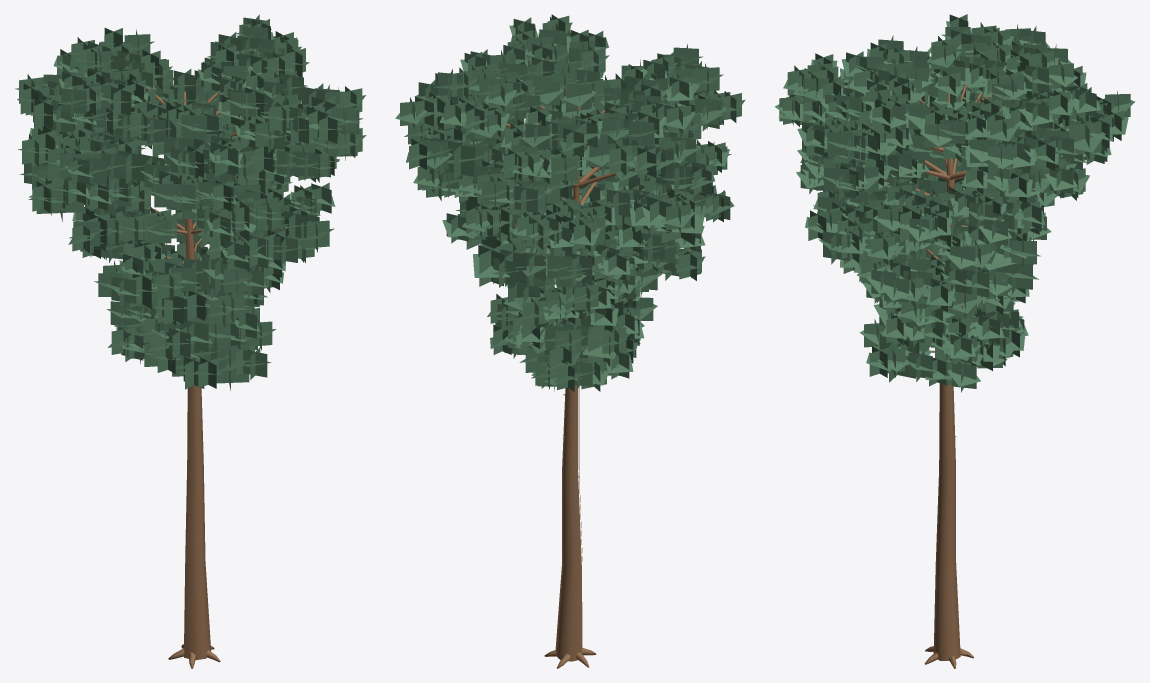
File: pin_3_jeu.glb
The picture shows the model from 3 angles, left to right: view 1: azimuth 30°, elevation 25°; view 2: azimuth 150°, elevation 25°; view 3: azimuth 270°, elevation 25°; orthographic projection.
Visible parts, largest first — view 1: Pin_T3_Leger; view 2: Pin_T3_Leger; view 3: Pin_T3_Leger.
Part boxes in pixels (bbox=[...]): Pin_T3_Leger: bbox=[15, 14, 366, 668]; Pin_T3_Leger: bbox=[395, 14, 745, 668]; Pin_T3_Leger: bbox=[775, 14, 1134, 668].
Size of the model in its own units: 8.28 by 15.76 by 8.8.
